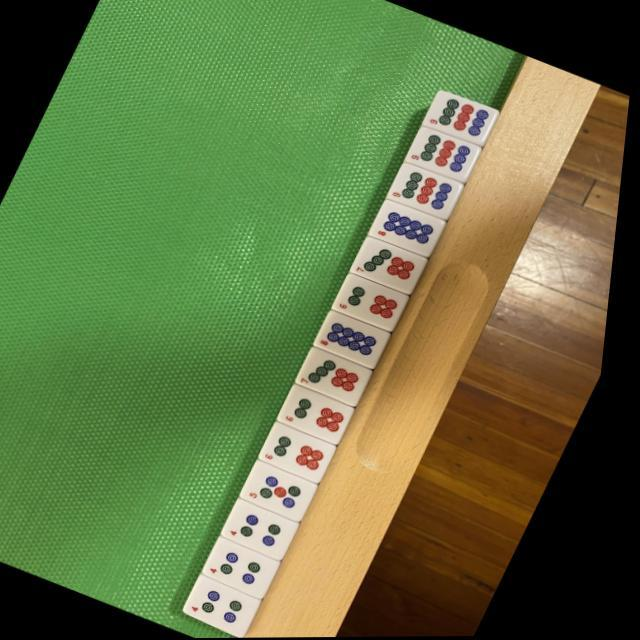sd4: (230, 497, 314, 561), (212, 536, 296, 600), (194, 576, 276, 636)
sd5: (249, 458, 332, 522)
sd6: (266, 421, 350, 483), (284, 384, 367, 444), (336, 272, 416, 331)
sd7: (302, 347, 384, 408), (354, 236, 434, 295)
sd8: (372, 199, 452, 258), (320, 310, 400, 368)
sd9: (406, 125, 486, 183), (390, 163, 470, 220), (424, 90, 504, 146)
